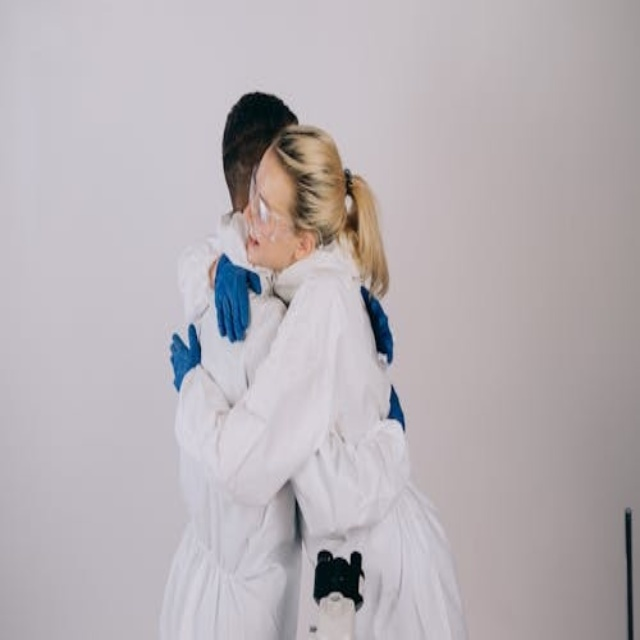Gafas: (247, 167, 325, 244)
Guantes: (212, 252, 262, 340), (165, 315, 201, 394), (360, 283, 396, 361)
Sin_mascara: (244, 227, 262, 261)
